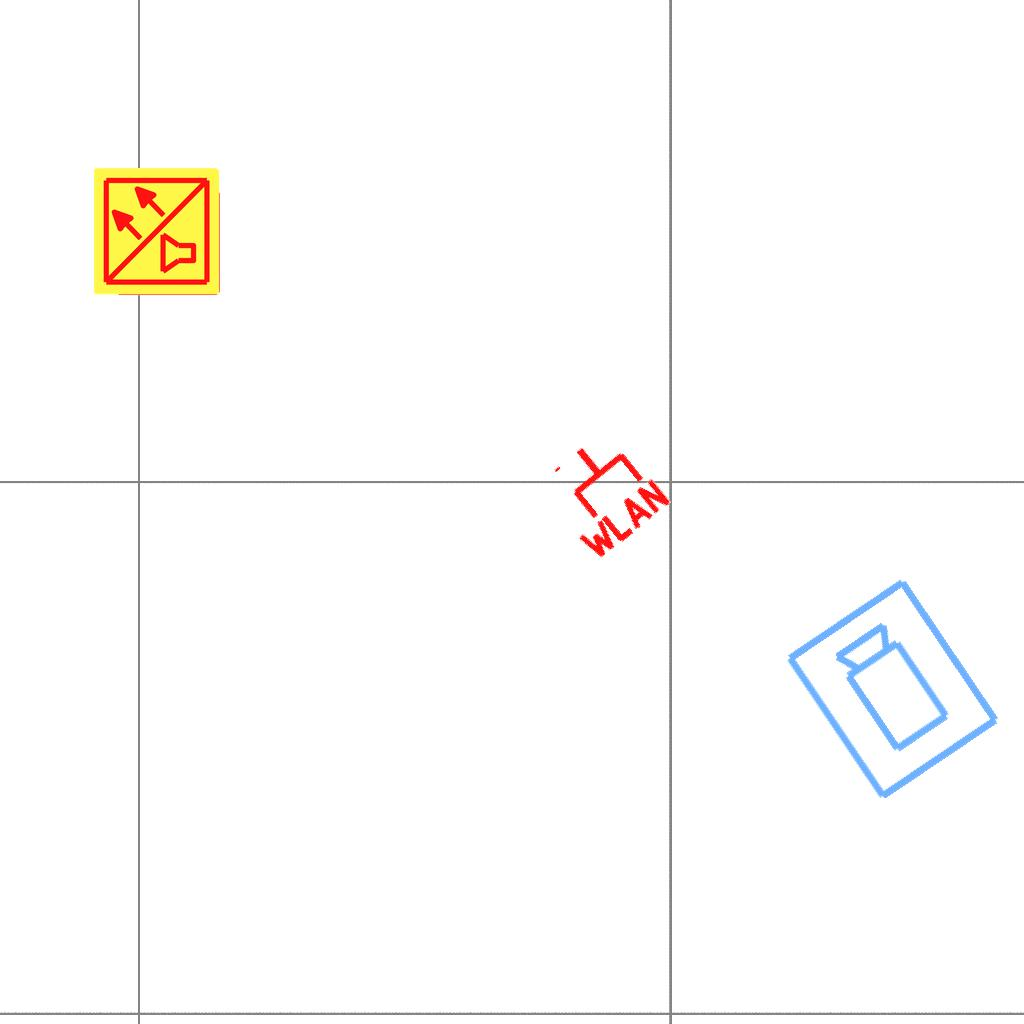KFO_Kamera_mit_Festobjektiv: (779, 570, 1009, 808)
OKW_Multisensormelder_(Kombination_optischer_Rauch-Kahlenmonoxid_Waerme-Melder): (91, 165, 223, 297)
WLAN: (529, 419, 676, 567)
